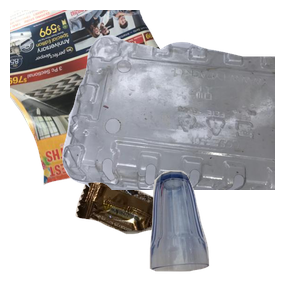glass: (147, 168, 300, 300)
paper: (10, 10, 230, 188)
plastic: (60, 32, 300, 212)
trash: (73, 171, 242, 300)
